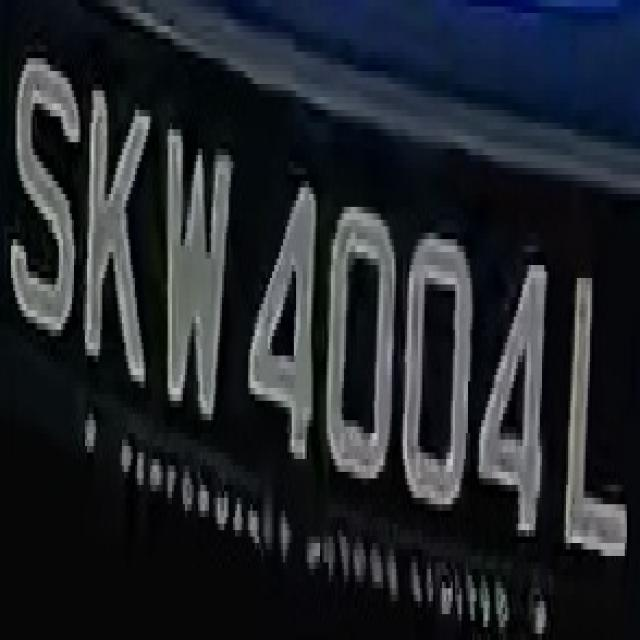0: (396, 188, 470, 536), (326, 162, 398, 498)
4: (479, 207, 551, 569), (246, 149, 318, 472)
K: (80, 45, 154, 401)
L: (560, 252, 632, 595)
S: (2, 19, 81, 375)
W: (154, 97, 240, 452)
